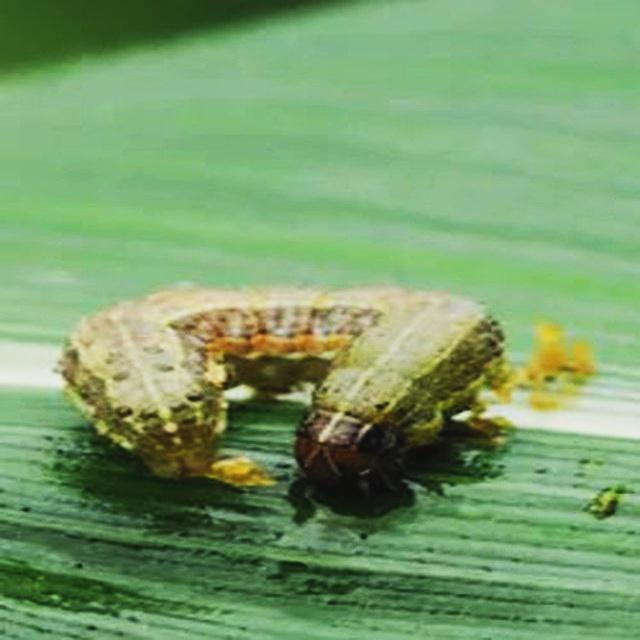worm: (55, 280, 518, 505)
